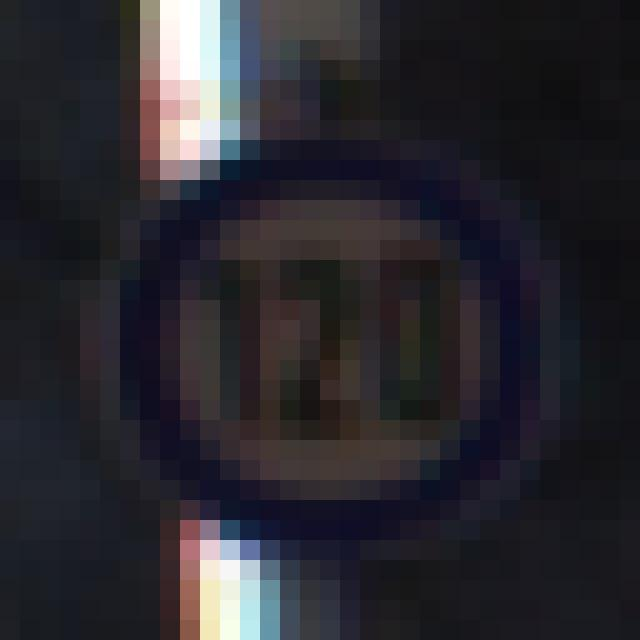SPEED LIMIT 120: (92, 133, 576, 562)
